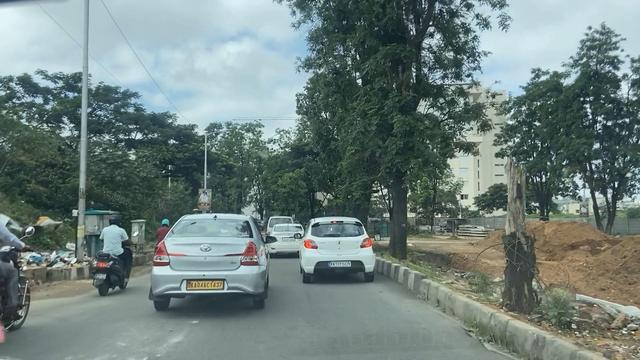LMV: (157, 217, 259, 304), (309, 221, 372, 271), (97, 217, 129, 294)
RoadDamages: (118, 327, 194, 357)
